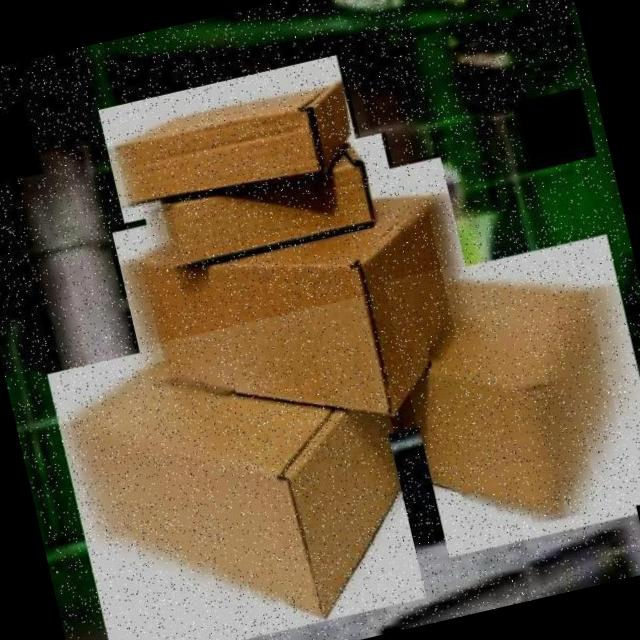box: (40, 295, 432, 640), (107, 152, 506, 490), (383, 228, 640, 563), (136, 131, 412, 306), (94, 52, 368, 226)
